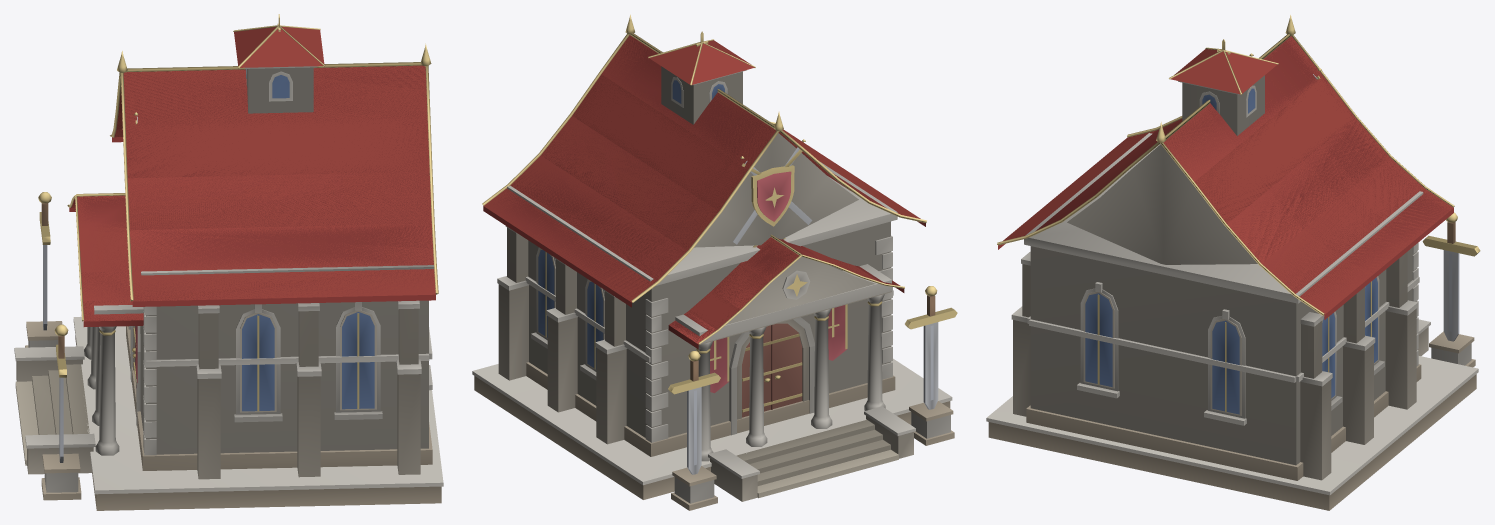
The model's file is sword_lite.glb.
3 views of the same model, side by side, from view 1: azimuth 30°, elevation 25°; view 2: azimuth 150°, elevation 25°; view 3: azimuth 270°, elevation 25° (orthographic). The views are drawn at different scales.
Parts seen in each view (by area): view 1: Sword_stone, Sword_roof, Sword_props; view 2: Sword_stone, Sword_roof, Sword_props; view 3: Sword_stone, Sword_roof, Sword_props.
Boxes of the visible parts, x1,y1,x2,y2 form: Sword_stone: [14, 66, 443, 510]; Sword_roof: [69, 26, 435, 326]; Sword_props: [38, 14, 438, 462]; Sword_stone: [472, 66, 954, 510]; Sword_roof: [483, 35, 925, 349]; Sword_props: [482, 14, 957, 474]; Sword_stone: [986, 75, 1478, 510]; Sword_roof: [998, 36, 1453, 319]; Sword_props: [997, 15, 1480, 414].
Bounding box in the file's own units: 15.31 × 12.99 × 15.25.
